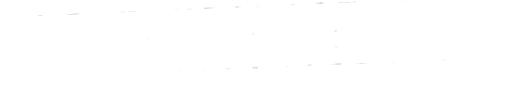letter: (22, 28, 50, 80), (159, 25, 186, 75), (104, 28, 132, 76), (460, 14, 486, 63), (130, 26, 156, 75), (268, 22, 295, 69), (349, 18, 375, 66), (322, 19, 348, 67), (79, 28, 105, 76), (50, 31, 76, 79), (433, 16, 458, 65), (294, 20, 319, 68), (403, 17, 427, 66), (240, 23, 265, 70), (214, 23, 236, 72), (187, 25, 209, 72), (379, 18, 400, 67)
